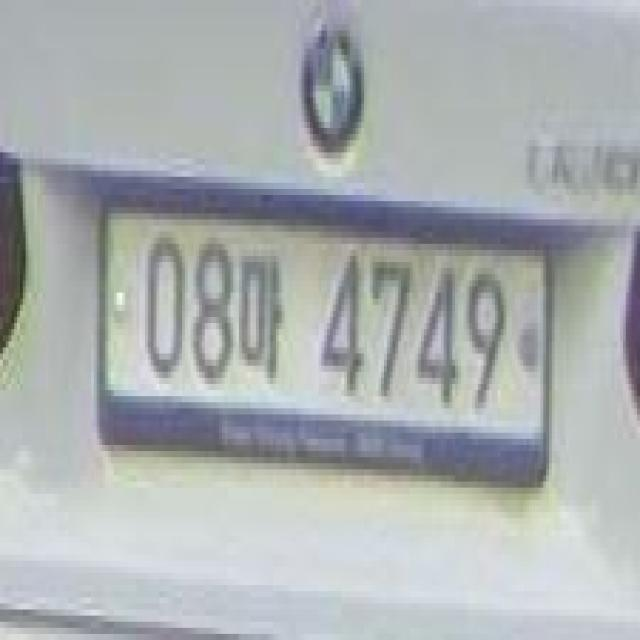illegal_plate: (94, 185, 557, 509)
